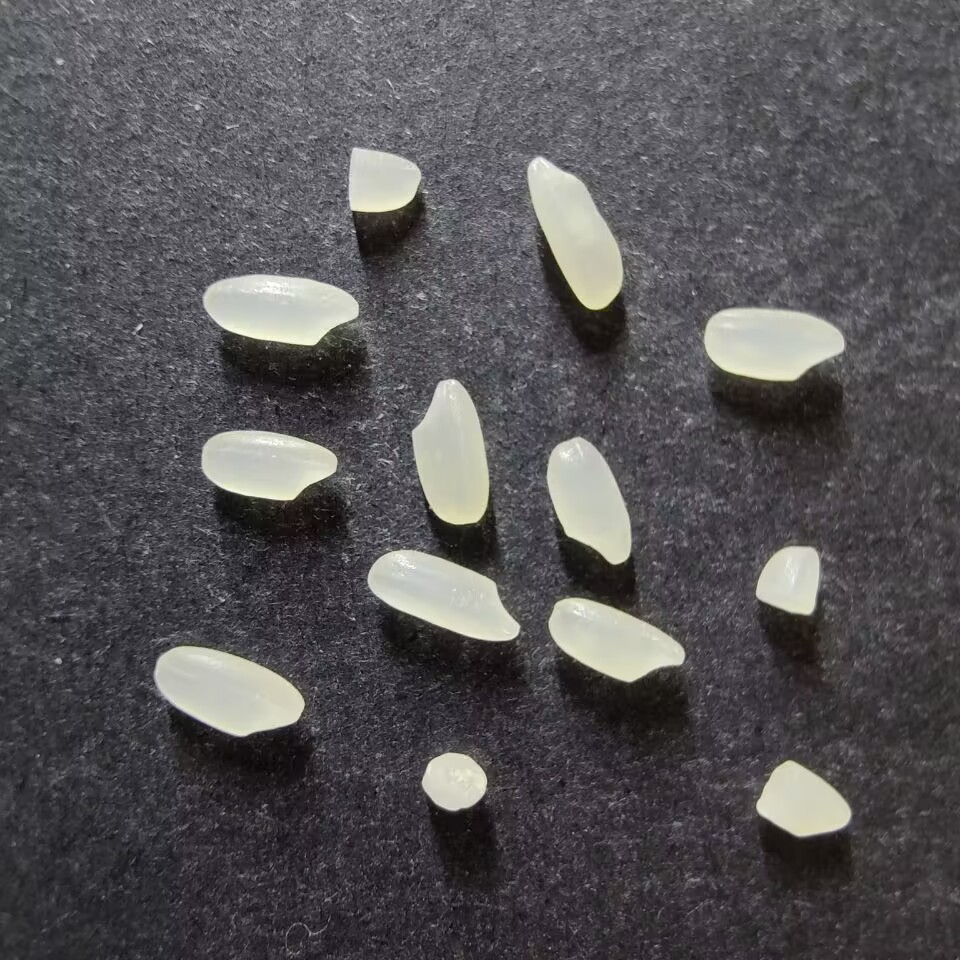broken: (755, 759, 851, 837), (346, 148, 421, 212), (755, 545, 820, 616), (421, 751, 487, 810)
rice: (526, 156, 623, 310), (366, 549, 521, 642), (154, 645, 305, 736), (547, 597, 685, 683), (410, 378, 489, 524), (202, 274, 360, 346), (545, 436, 632, 565), (703, 307, 845, 381), (200, 429, 338, 500)
